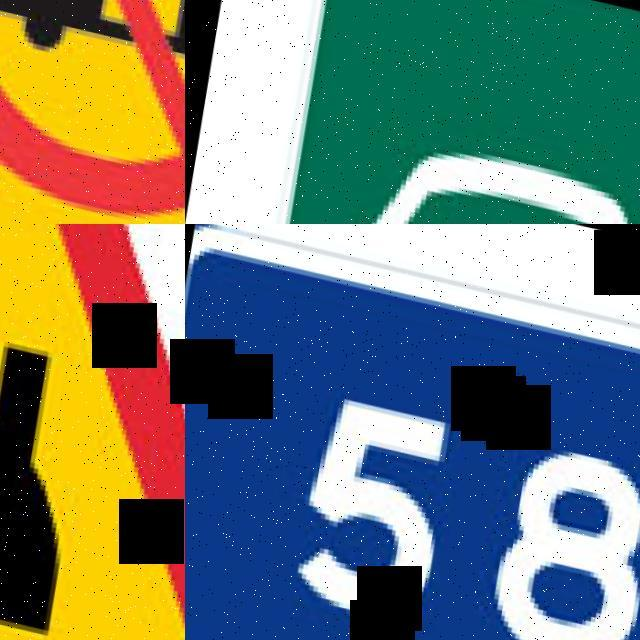166: (0, 224, 185, 640)
73: (207, 0, 640, 224)
82: (0, 0, 185, 224)
Main highways: (185, 224, 640, 640)
